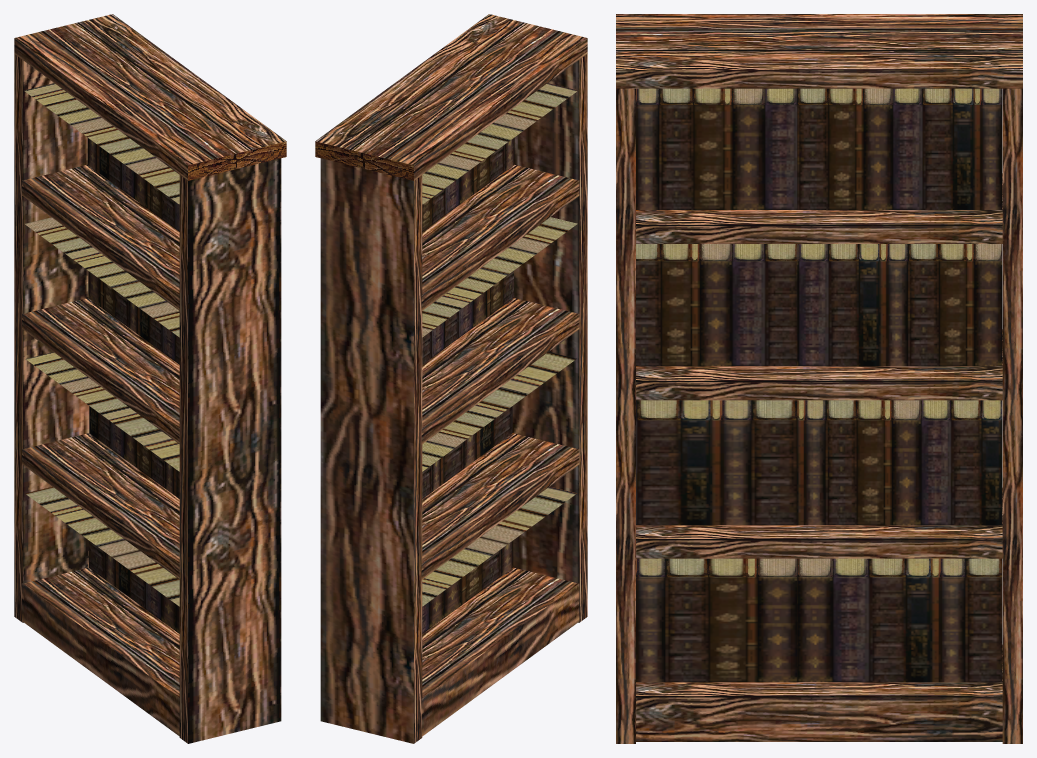
File: INST_LT_BOOKCASE.fbx
3 views of the same model, side by side, from view 1: azimuth 30°, elevation 25°; view 2: azimuth 150°, elevation 25°; view 3: azimuth 270°, elevation 25° (orthographic). The views are drawn at different scales.
Parts seen in each view (by area): view 1: INST_LT_BOOKCASE; view 2: INST_LT_BOOKCASE; view 3: INST_LT_BOOKCASE.
Part boxes in pixels (x1=…): INST_LT_BOOKCASE: x1=14, y1=14, x2=286, y2=743; INST_LT_BOOKCASE: x1=315, y1=14, x2=587, y2=743; INST_LT_BOOKCASE: x1=616, y1=14, x2=1022, y2=743.
Bounding box in the file's own units: 3110 × 17432 × 9500.
4 materials, 4 textured.
